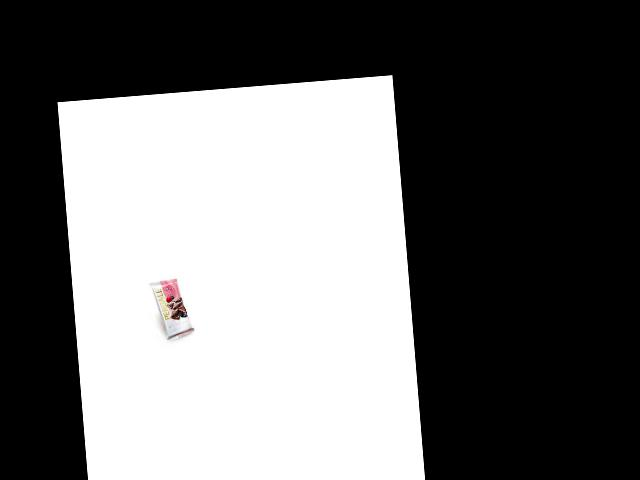chocolate: (149, 277, 196, 339)
